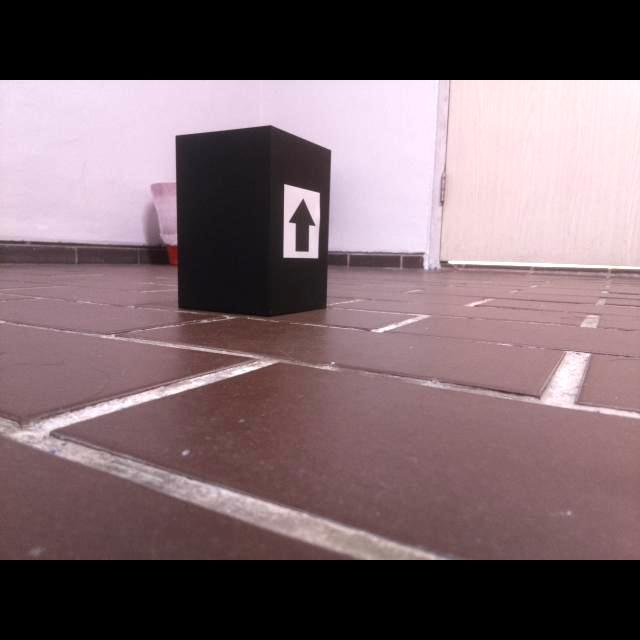UP: (287, 197, 317, 253)
